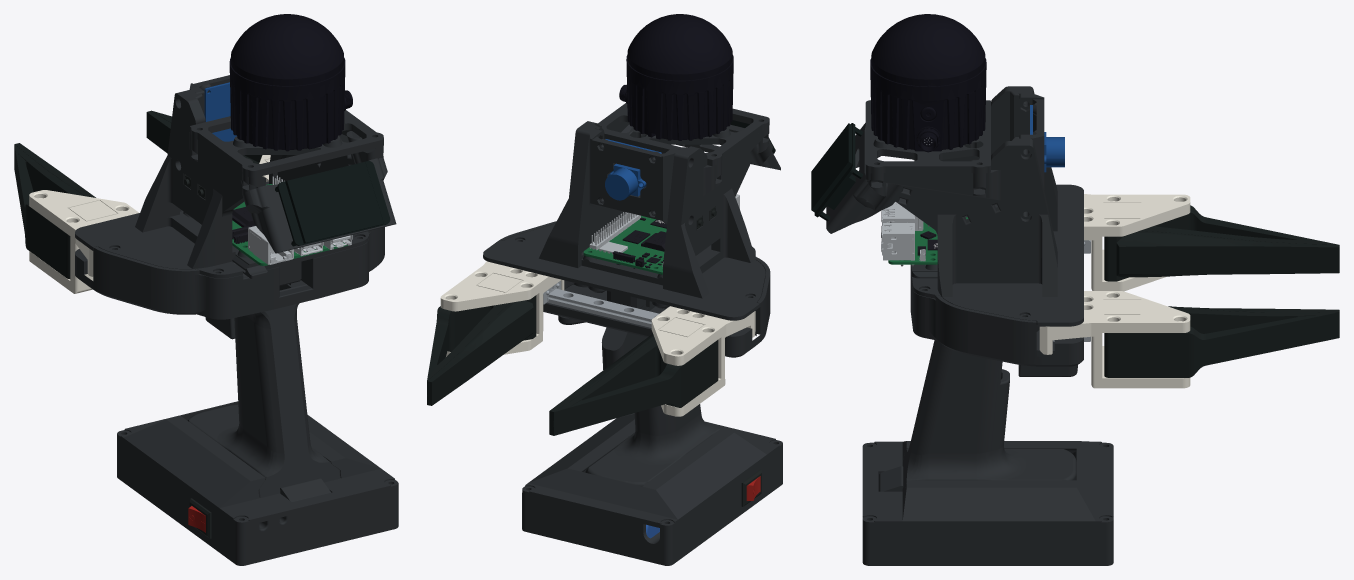
The model's file is umi-live-cad.glb.
3 views of the same model, side by side, from view 1: azimuth 30°, elevation 25°; view 2: azimuth 150°, elevation 25°; view 3: azimuth 270°, elevation 25° (orthographic). The views are drawn at different scales.
Parts seen in each view (by area): view 1: core__housing, battery__housing, lidar__lidar, lcd__screen, lidar__housing, finger_l__finger_pad, holder_l__holder, lcd__housing, pi__metal, camera__pcb_blue, finger_r__finger_pad, pi__chip (+1 smaller); view 2: core__housing, battery__housing, lidar__lidar, finger_l__finger_pad, finger_r__finger_pad, camera__housing, holder_l__holder, holder_r__holder, lidar__housing, core__steel, pi__pcb, camera__pcb_blue (+4 smaller); view 3: core__housing, battery__housing, lidar__lidar, finger_l__finger_pad, finger_r__finger_pad, holder_r__holder, holder_l__holder, lidar__housing, lcd__screen, lcd__housing, pi__metal, camera__housing (+2 smaller).
Boxes of the visible parts, x1,y1,x2,y2 form: core__housing: (75, 89, 384, 497); battery__housing: (117, 401, 398, 565); lidar__lidar: (229, 14, 352, 151); lcd__screen: (275, 161, 390, 246); lidar__housing: (190, 110, 383, 177); finger_l__finger_pad: (14, 143, 95, 278); holder_l__holder: (29, 190, 138, 293); lcd__housing: (242, 158, 396, 253); pi__metal: (248, 175, 352, 264); camera__pcb_blue: (204, 82, 236, 141); finger_r__finger_pad: (146, 110, 262, 163); pi__chip: (232, 207, 255, 243); core__housing: (483, 121, 770, 486); battery__housing: (522, 413, 782, 565); lidar__lidar: (619, 14, 733, 140); finger_l__finger_pad: (549, 334, 718, 435); finger_r__finger_pad: (427, 295, 536, 405); camera__housing: (589, 129, 679, 224); holder_l__holder: (651, 306, 755, 416); holder_r__holder: (440, 261, 564, 356); lidar__housing: (598, 103, 769, 166); core__steel: (543, 281, 659, 327); pi__pcb: (583, 215, 666, 274); camera__pcb_blue: (605, 139, 661, 200); core__housing: (865, 86, 1083, 500); battery__housing: (862, 441, 1113, 565); lidar__lidar: (870, 14, 986, 152); finger_l__finger_pad: (1104, 205, 1339, 281); finger_r__finger_pad: (1104, 306, 1339, 377); holder_r__holder: (1039, 291, 1190, 388); holder_l__holder: (1084, 194, 1190, 291); lidar__housing: (865, 100, 990, 174); lcd__screen: (811, 123, 863, 221); lcd__housing: (826, 123, 895, 233); pi__metal: (881, 202, 928, 266); camera__housing: (1019, 93, 1044, 212).
Bounding box in the file's own units: 0.172 × 0.2942 × 0.2783.
